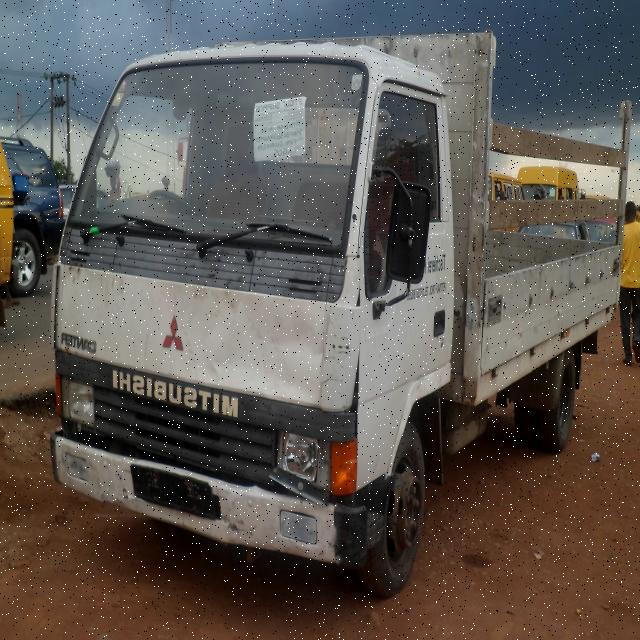truck: (52, 32, 634, 584)
